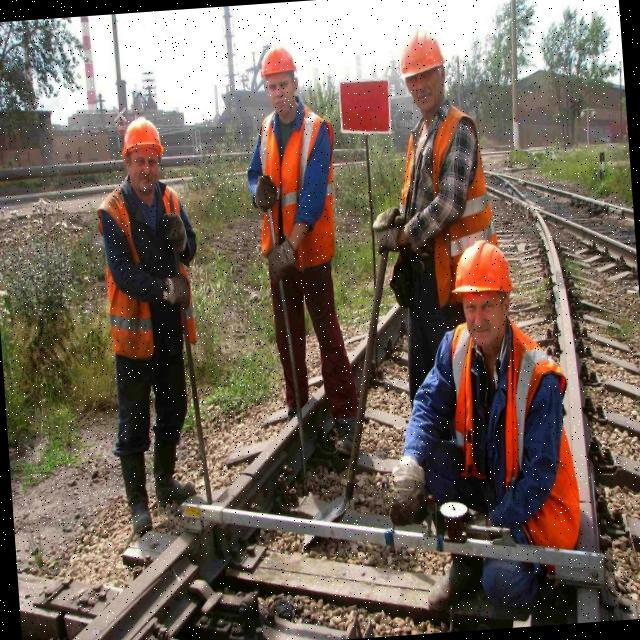Helmet: (450, 238, 513, 312), (397, 30, 448, 87), (119, 116, 166, 167), (259, 47, 298, 92)
Jacket: (441, 328, 567, 544), (101, 182, 202, 355), (398, 108, 494, 251), (260, 111, 335, 267)
